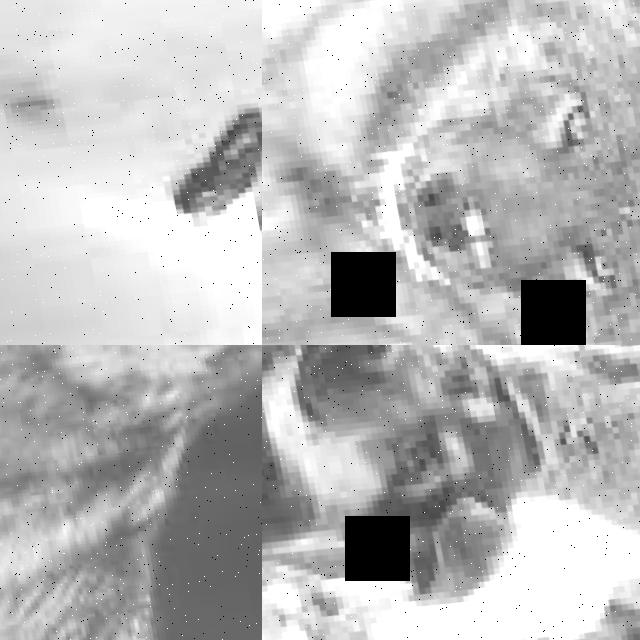dog: (262, 345, 627, 640), (0, 0, 262, 345), (262, 500, 640, 640)
wolf: (262, 0, 640, 345), (0, 345, 262, 640)
